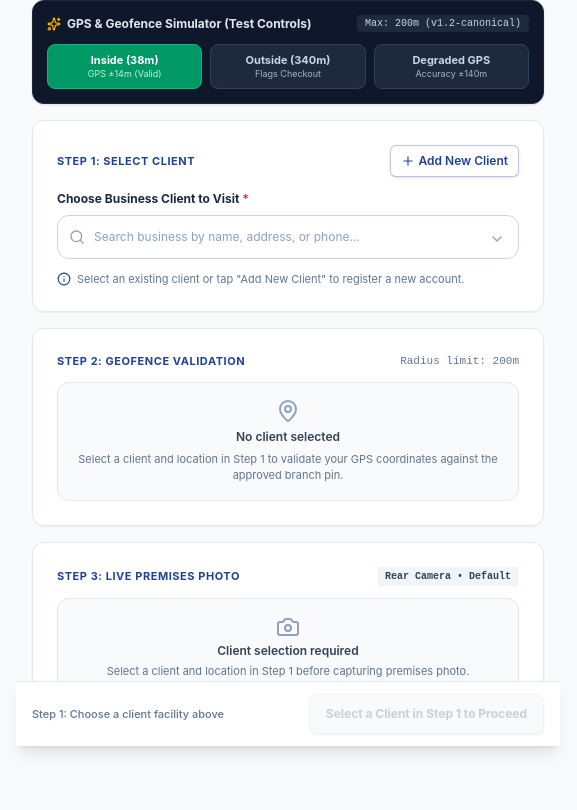
Test: Stage 3C: Client Visits, Geofencing, Photo Evidence & Meeting Logs › 2. Client & Location Selection (PRD §3 Step 1) › allows searching and selecting a client from registered list
The image size is (577, 810).
Focus the field with placeholder "Search business by name, address, or phone..." at point(288, 237), box [57, 215, 519, 259]
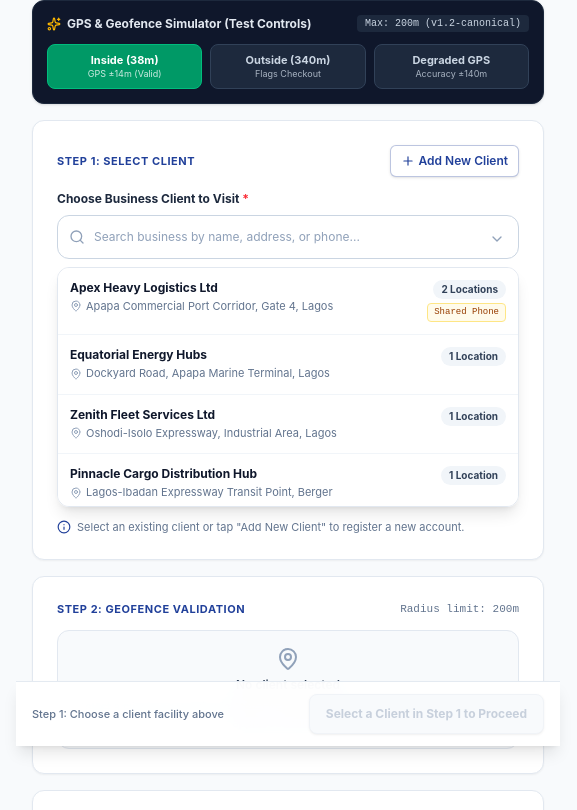
Check: the button "Apex Heavy Logistics Ltd" is shown
Click the button "Apex Heavy Logistics Ltd" at point(288, 302), box [58, 268, 518, 336]
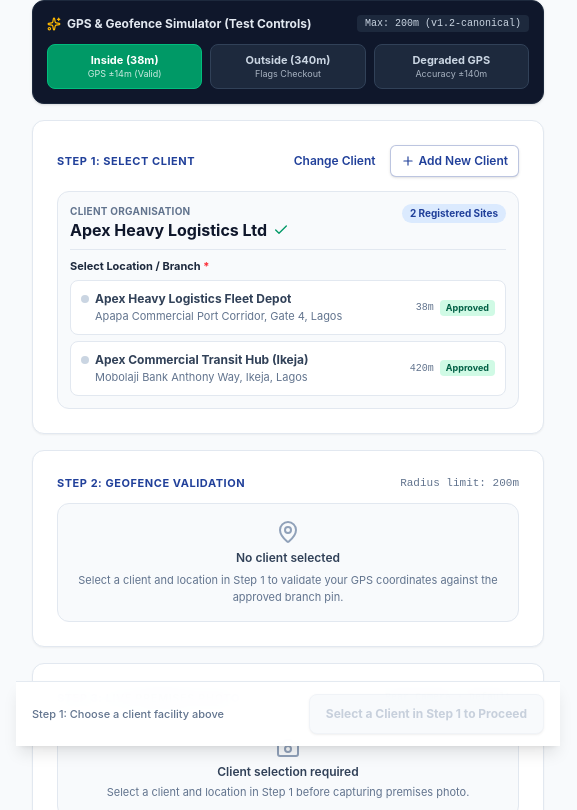
// Select specific location from multi-location client
Click the button "Apex Heavy Logistics Fleet Depot" at point(288, 308), box [70, 280, 506, 335]
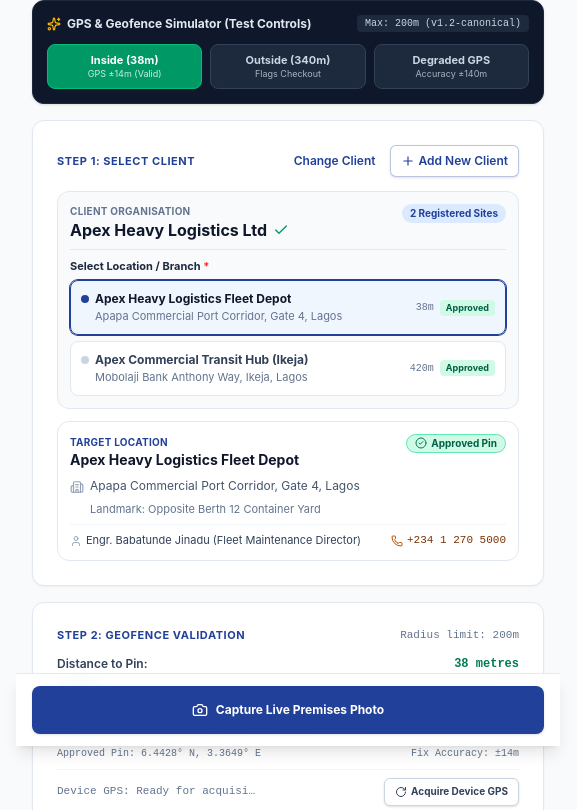
Check: the heading "Apex Heavy Logistics Ltd" is shown, box [70, 219, 289, 241]
Check: the text "Target Location" is shown, box [70, 436, 168, 448]
